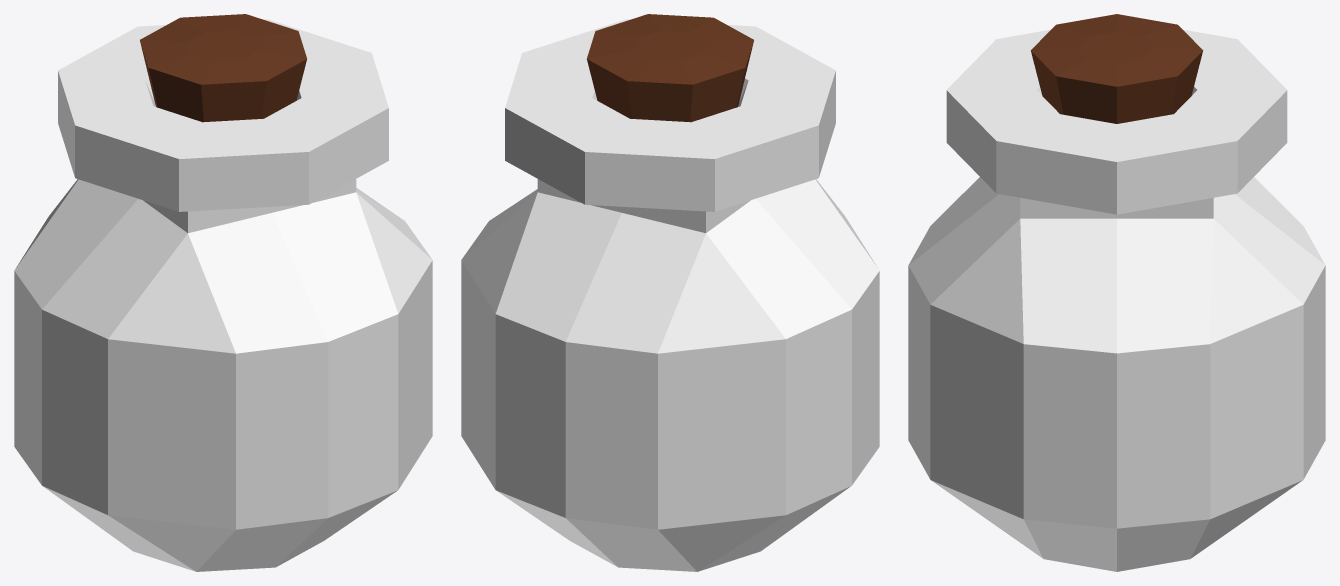
The model's file is Potion.fbx.
3 renders of one model, left to right at view 1: azimuth 30°, elevation 25°; view 2: azimuth 150°, elevation 25°; view 3: azimuth 270°, elevation 25°, orthographic.
Visible parts, largest first — view 1: Potion; view 2: Potion; view 3: Potion.
Boxes of the visible parts, x1,y1,x2,y2 form: Potion: (14, 14, 432, 571); Potion: (461, 14, 879, 571); Potion: (908, 14, 1325, 571).
Bounding box in the file's own units: 0.2697 × 0.3433 × 0.2697.
